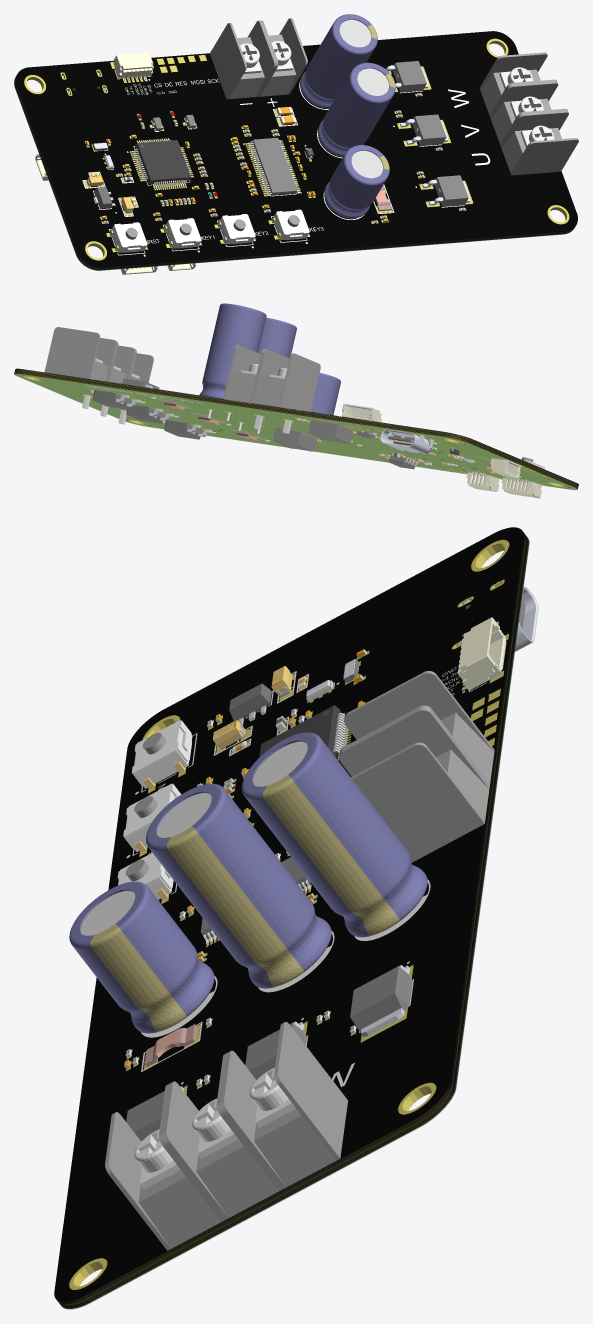
The model's file is stm32f446ret6.glb.
3 renders of one model, top to bottom at view 1: azimuth 30°, elevation 25°; view 2: azimuth 150°, elevation 25°; view 3: azimuth 270°, elevation 25°, orthographic. The views are drawn at different scales.
Parts seen in each view (by area): view 1: Solder_Top, ComponentBody.442, ComponentBody.439, ComponentBody.427, ComponentBody.432, ComponentBody.422, Top, ComponentBody.255, Core, ComponentBody.102, ComponentBody.441, Core.2 (+20 smaller); view 2: GND, Solder_Bottom, ComponentBody.439, ComponentBody.442, ComponentBody.432, Core.2, ComponentBody.427, ComponentBody.422, Core.4, Core, Core.3, ComponentBody.446 (+15 smaller); view 3: Solder_Top, ComponentBody.442, ComponentBody.439, ComponentBody.432, ComponentBody.427, ComponentBody.422, ComponentBody.433, ComponentBody.428, ComponentBody.441, ComponentBody.423, GND, Core.2 (+19 smaller).
Part boxes in pixels (x1,y1,x2,y2): Solder_Top: (15,31,577,267); ComponentBody.442: (479,52,578,175); ComponentBody.439: (210,18,307,99); ComponentBody.427: (317,62,395,156); ComponentBody.432: (300,14,377,108); ComponentBody.422: (324,145,389,218); Top: (82,70,490,256); ComponentBody.255: (135,140,190,183); Core: (15,38,573,268); ComponentBody.102: (252,137,297,195); ComponentBody.441: (499,67,554,147); Core.2: (14,77,573,269); GND: (15,369,576,489); Solder_Bottom: (14,373,577,490); ComponentBody.439: (223,345,320,412); ComponentBody.442: (44,327,153,383); ComponentBody.432: (199,303,266,398); Core.2: (14,370,578,487); ComponentBody.427: (258,317,296,358); ComponentBody.422: (311,373,340,415); Core.4: (14,373,577,489); Core: (15,369,578,485); Core.3: (14,372,577,488); ComponentBody.446: (308,420,353,443); Solder_Top: (54,527,523,1302); ComponentBody.442: (105,1022,347,1250); ComponentBody.439: (339,671,494,862); ComponentBody.432: (242,732,427,937); ComponentBody.427: (146,783,331,988); ComponentBody.422: (69,881,214,1033); ComponentBody.433: (262,774,400,935); ComponentBody.428: (166,826,304,986); ComponentBody.441: (134,1067,295,1189); ComponentBody.423: (90,923,187,1031); GND: (65,539,525,1305); Core.2: (58,534,527,1306).
Bounding box in the file's own units: 12.52 × 4.99 × 5.3.
